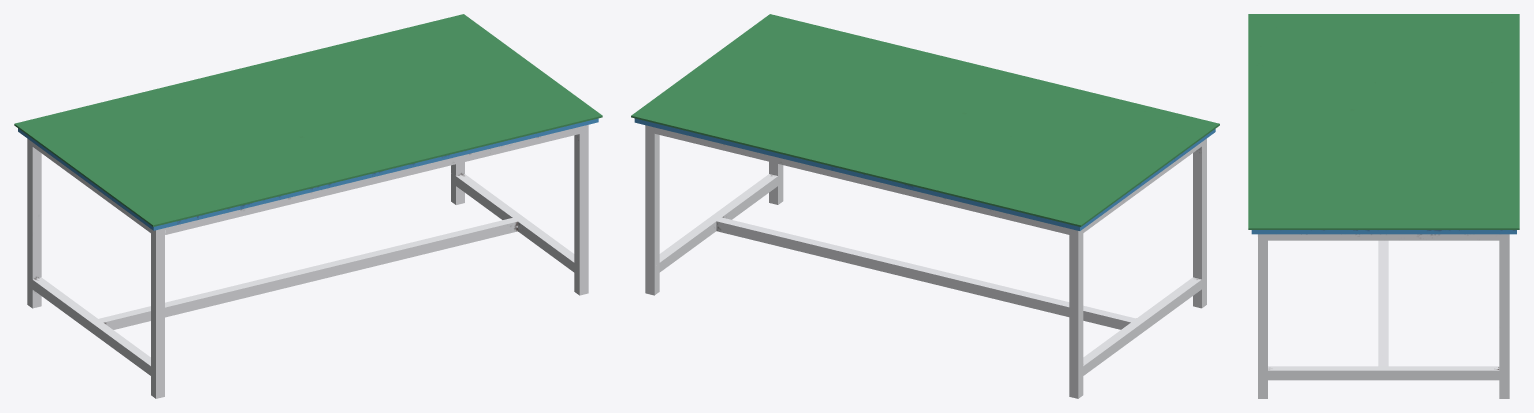
The model's file is zuozi.FBX.
3 views of the same model, side by side, from view 1: azimuth 30°, elevation 25°; view 2: azimuth 150°, elevation 25°; view 3: azimuth 270°, elevation 25° (orthographic). The views are drawn at different scales.
Visible parts, largest first — view 1: YF_Model_zuozi; view 2: YF_Model_zuozi; view 3: YF_Model_zuozi.
Part boxes in pixels (x1=…): YF_Model_zuozi: x1=14, y1=14, x2=602, y2=398; YF_Model_zuozi: x1=631, y1=14, x2=1219, y2=398; YF_Model_zuozi: x1=1248, y1=14, x2=1519, y2=398.
Bounding box in the file's own units: 145 × 55.31 × 77.74.
Materials: 1 (1 with a texture image).
